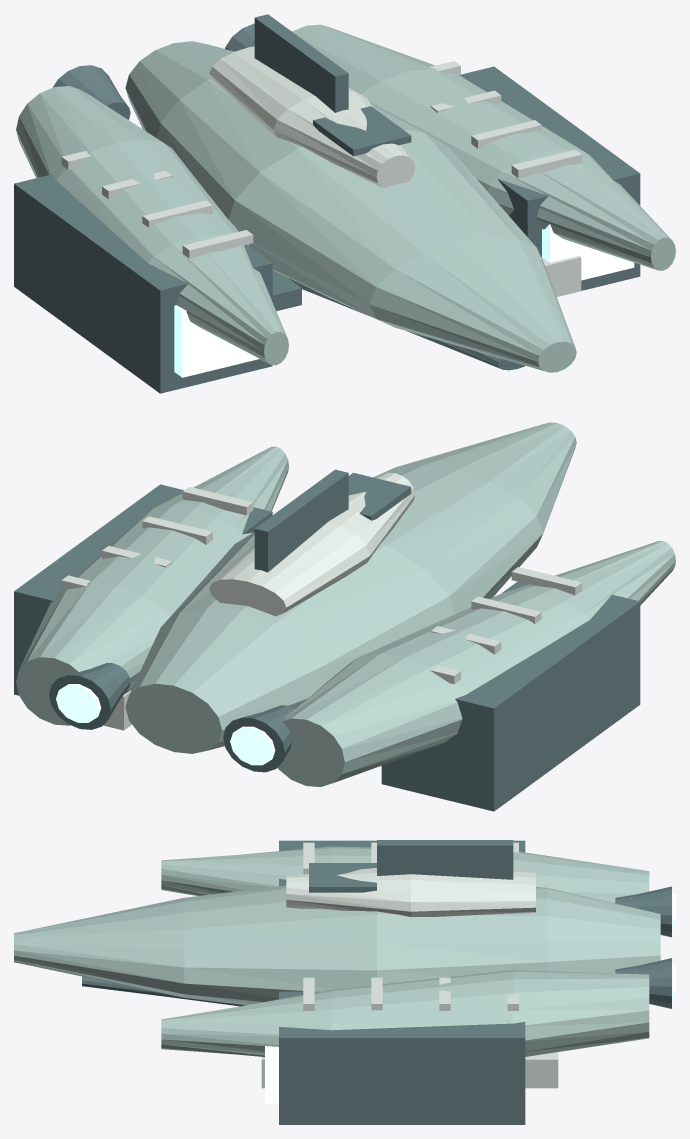
The picture shows the model from 3 angles, top to bottom: view 1: azimuth 30°, elevation 25°; view 2: azimuth 150°, elevation 25°; view 3: azimuth 270°, elevation 25°; orthographic projection. The views are drawn at different scales.
Size of the model in its own units: 13.65 by 5.91 by 19.34.
